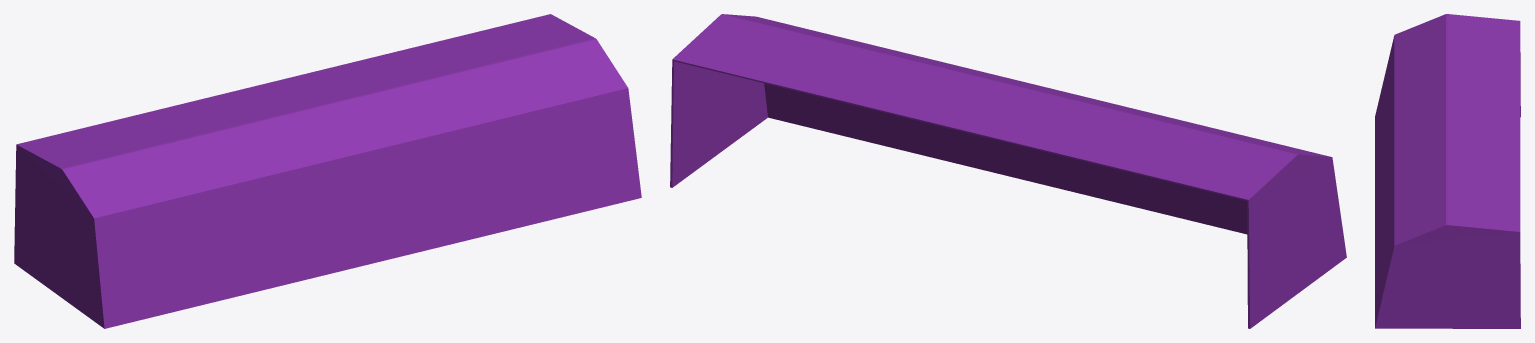
Rendered from SM_storefront_screen_01.fbx.
3 views of the same model, side by side, from view 1: azimuth 30°, elevation 25°; view 2: azimuth 150°, elevation 25°; view 3: azimuth 270°, elevation 25° (orthographic). The views are drawn at different scales.
Visible parts, largest first — view 1: Box060; view 2: Box060; view 3: Box060.
Part boxes in pixels (x1,y1,x2,y2): Box060: [14, 14, 641, 328]; Box060: [670, 14, 1346, 328]; Box060: [1375, 14, 1520, 328].
Bounding box in the file's own units: 179 × 51.79 × 40.46.
